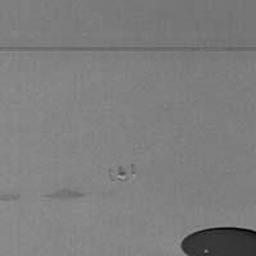Punching: (182, 227, 256, 256)
